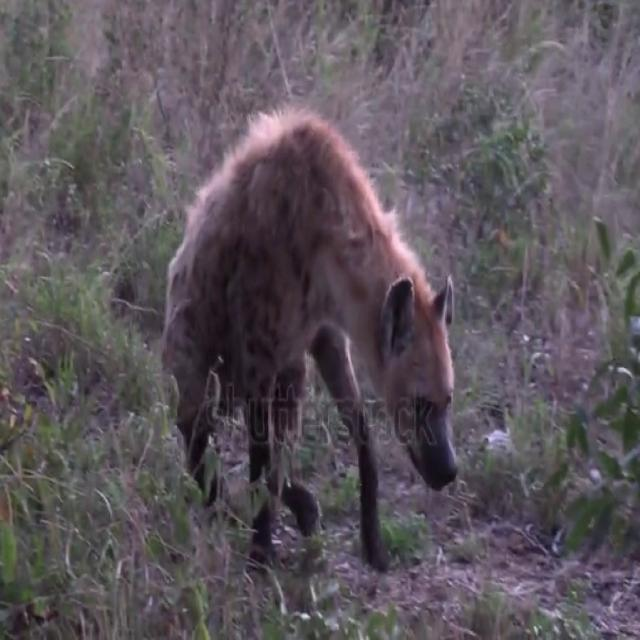normal_animals: (156, 101, 461, 578)
